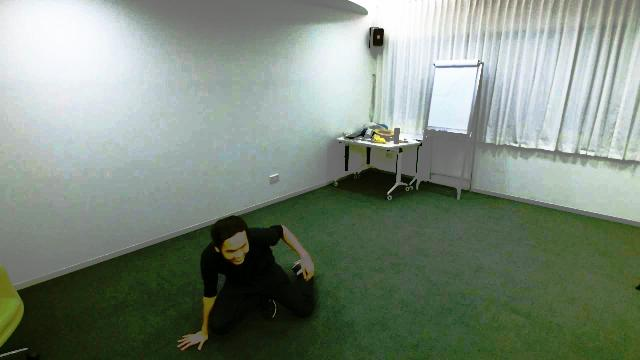jatuh: (172, 217, 322, 359)
